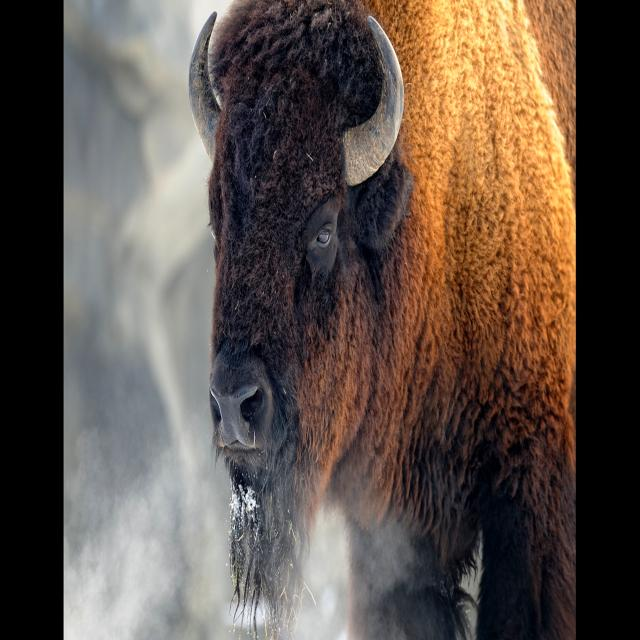bison: (191, 0, 576, 640)
